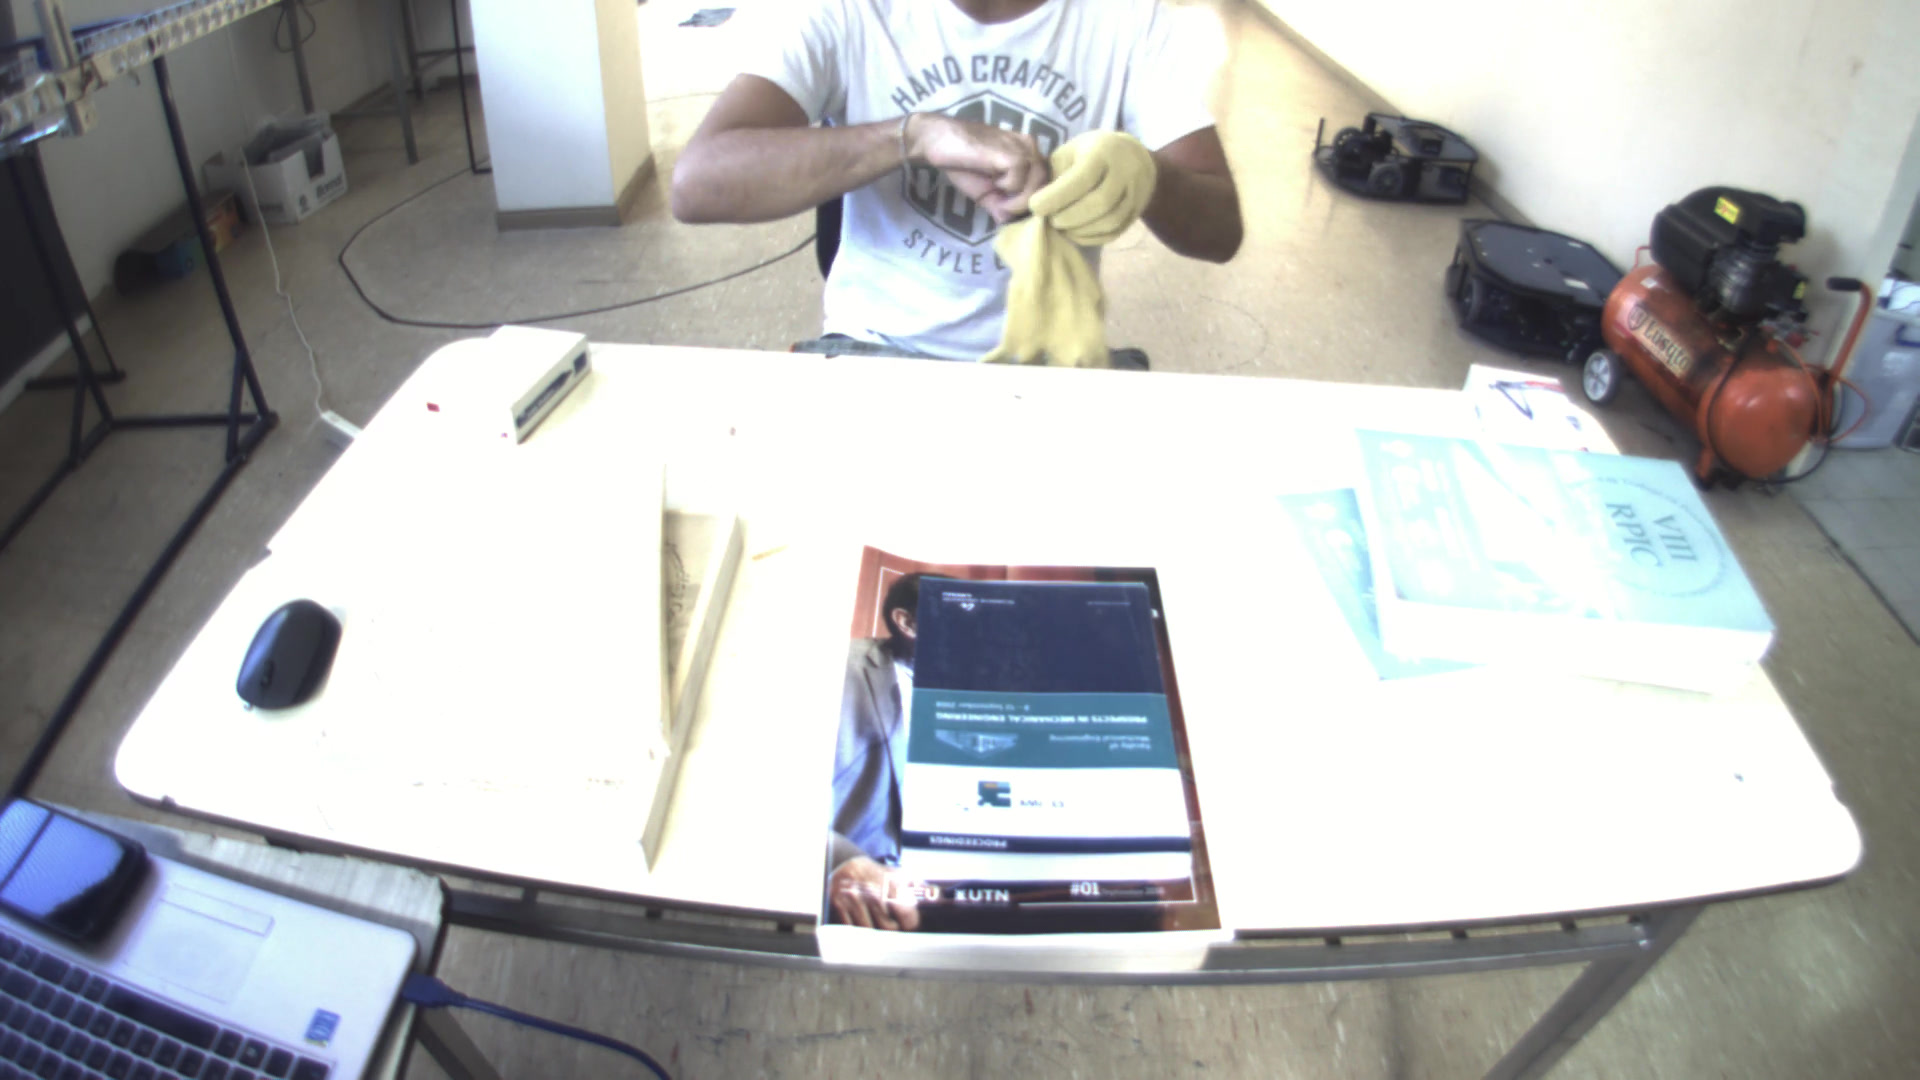hand: (891, 105, 1055, 222), (1029, 120, 1167, 239)
